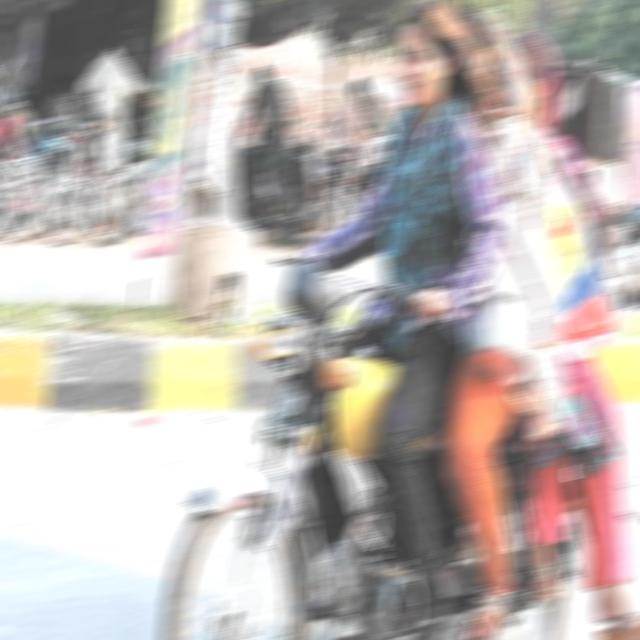Without Helmet: (387, 0, 471, 124)
